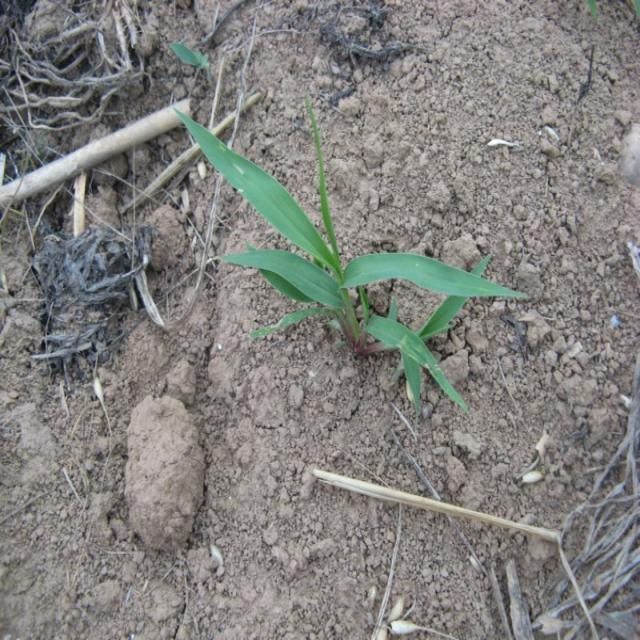bg: (170, 95, 533, 420)
